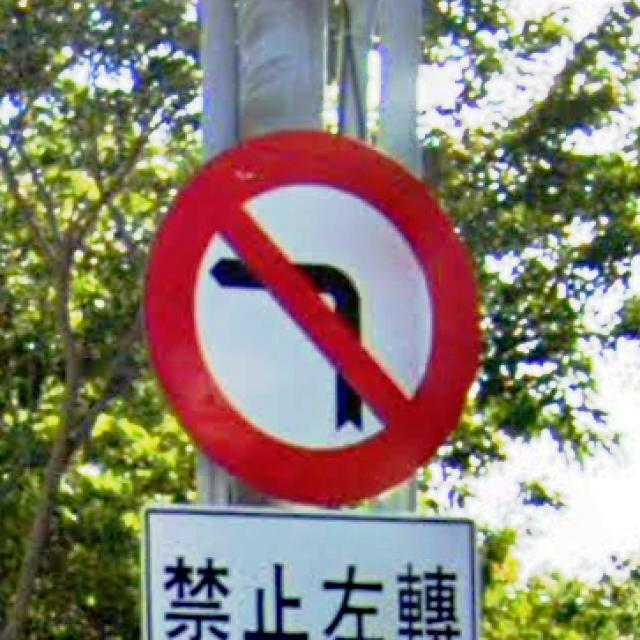noturnleft: (137, 123, 485, 506)
